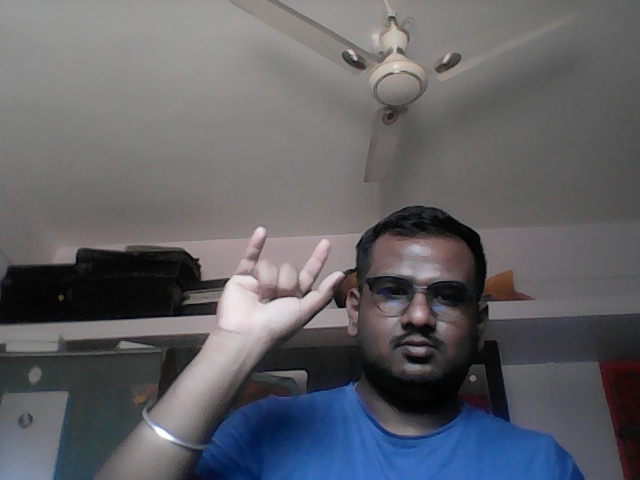I Love You: (215, 225, 347, 346)
